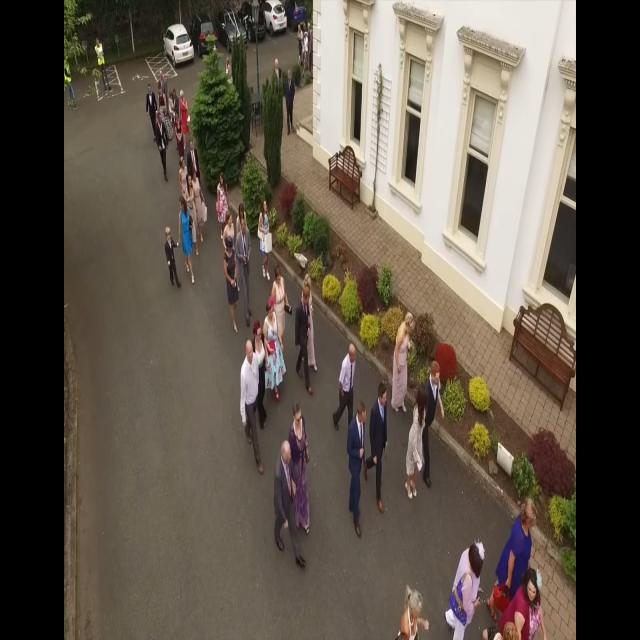humans: (274, 434, 309, 574), (367, 370, 392, 520), (239, 337, 265, 479), (290, 394, 316, 535), (405, 375, 430, 502), (497, 488, 539, 563), (350, 397, 371, 541), (456, 538, 482, 640), (331, 338, 357, 440), (393, 572, 431, 640), (510, 562, 550, 626), (426, 354, 444, 488), (394, 307, 416, 410), (263, 294, 282, 398), (222, 233, 242, 331), (178, 188, 198, 278), (297, 284, 312, 392), (236, 212, 252, 311), (255, 189, 272, 275), (163, 218, 182, 291), (213, 170, 234, 232), (271, 259, 289, 325), (284, 61, 300, 131), (156, 106, 168, 176), (172, 101, 186, 158), (253, 313, 265, 366), (146, 76, 156, 126), (178, 82, 189, 125), (186, 169, 196, 212), (157, 79, 168, 107)
